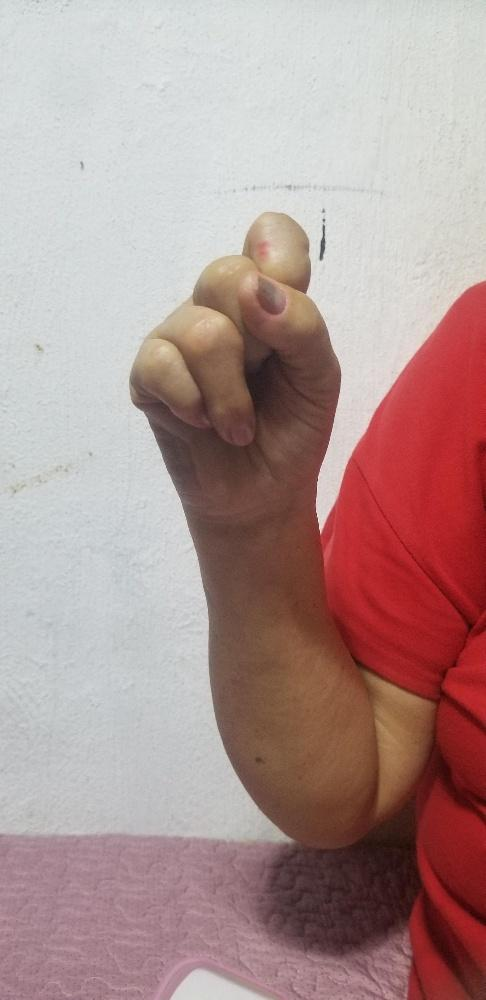s: (126, 205, 342, 520)
